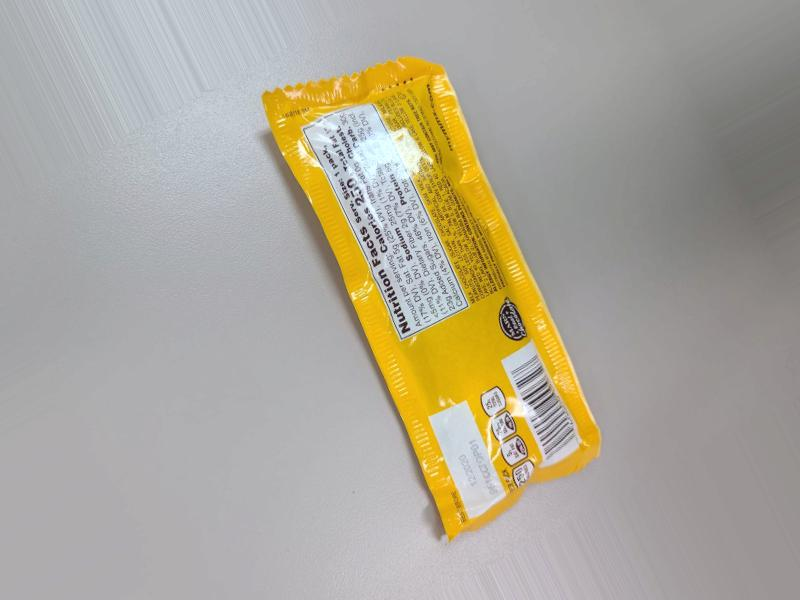m&m: (328, 68, 615, 563)
